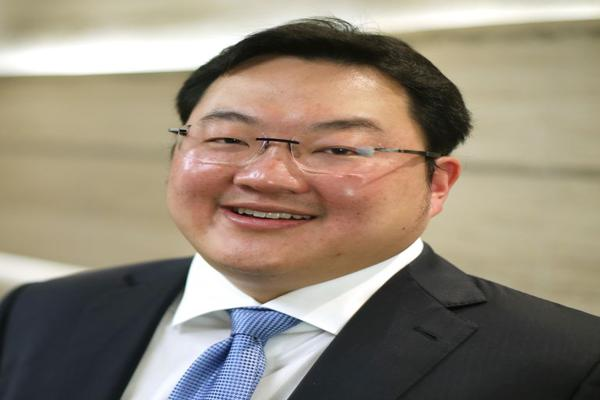Chinese: (171, 74, 391, 271)
